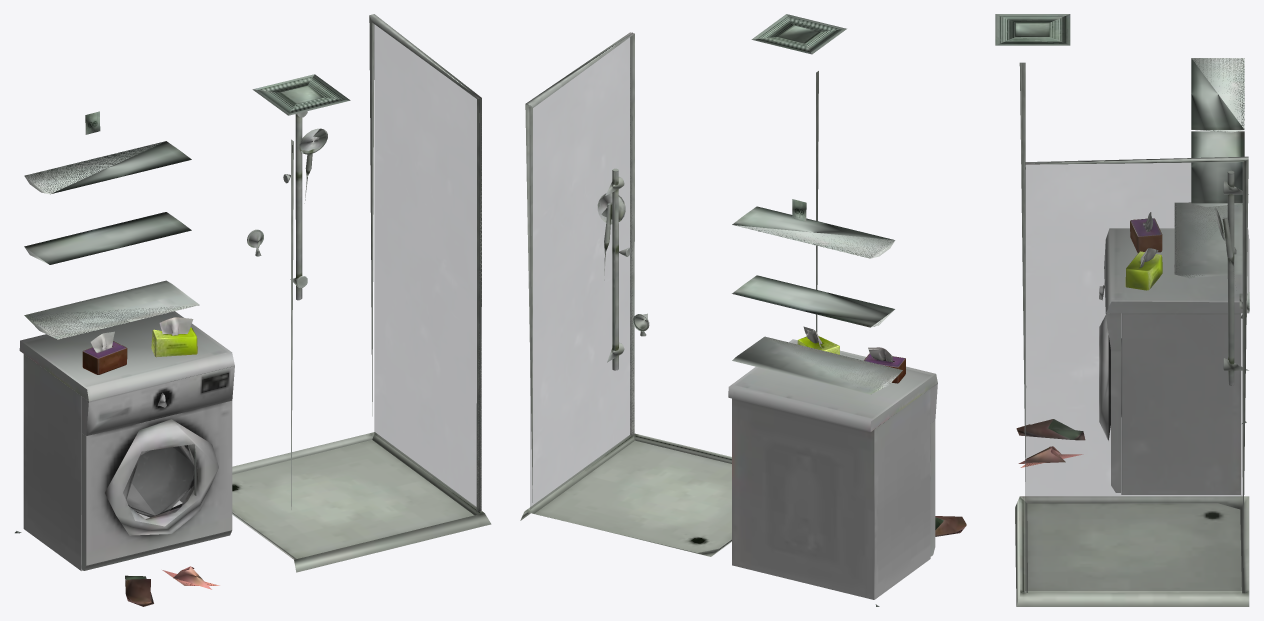
Rendered from bath-set.lod0.glb.
The picture shows the model from 3 angles, left to right: view 1: azimuth 30°, elevation 25°; view 2: azimuth 150°, elevation 25°; view 3: azimuth 270°, elevation 25°; orthographic projection. The views are drawn at different scales.
Visible parts, largest first — view 1: Plane.001_Material 1_0, Plane.001_Material 2_0; view 2: Plane.001_Material 1_0, Plane.001_Material 2_0; view 3: Plane.001_Material 2_0, Plane.001_Material 1_0.
Part boxes in pixels (left/top/right/bottom): Plane.001_Material 1_0: left=15, top=14, right=491, bottom=606; Plane.001_Material 2_0: left=132, top=24, right=479, bottom=516; Plane.001_Material 1_0: left=520, top=14, right=966, bottom=606; Plane.001_Material 2_0: left=530, top=32, right=632, bottom=509; Plane.001_Material 2_0: left=1025, top=162, right=1243, bottom=590; Plane.001_Material 1_0: left=995, top=14, right=1249, bottom=606.
Bounding box in the file's own units: 1.89 × 2.3 × 1.09.
2 materials, 2 textured.
